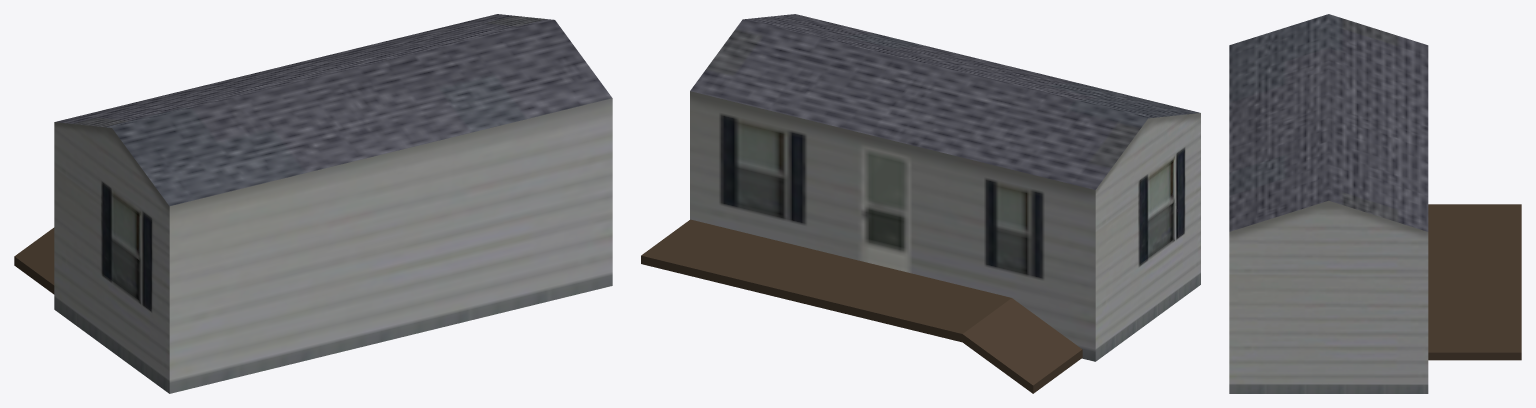
Rendered from SmallHouse_withPorch.fbx.
3 renders of one model, left to right at view 1: azimuth 30°, elevation 25°; view 2: azimuth 150°, elevation 25°; view 3: azimuth 270°, elevation 25°, orthographic. The views are drawn at different scales.
Visible parts, largest first — view 1: House2, Porch; view 2: House2, Porch; view 3: House2, Porch.
Boxes of the visible parts, x1,y1,x2,y2 form: House2: [54, 14, 612, 393]; Porch: [14, 227, 54, 294]; House2: [690, 14, 1200, 361]; Porch: [641, 219, 1082, 393]; House2: [1229, 14, 1428, 393]; Porch: [1428, 204, 1521, 360].
Size of the model in its own units: 73.55 by 35.51 by 48.66.
